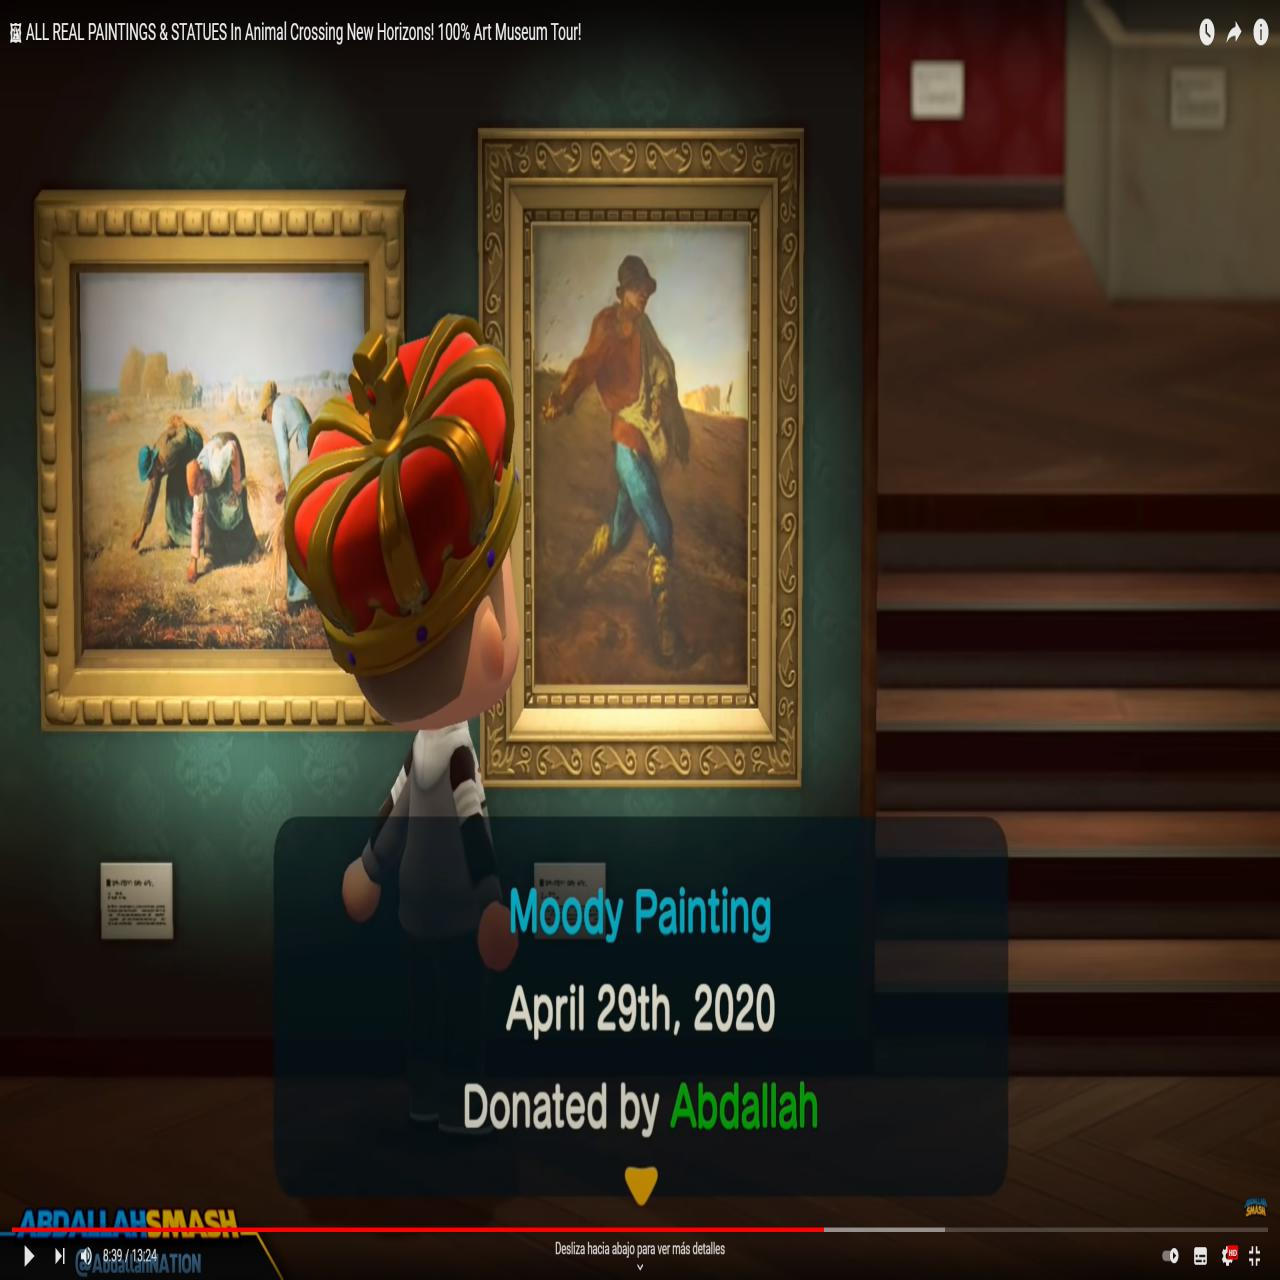Gleaners: (80, 277, 360, 659)
Slower: (535, 231, 747, 685)
